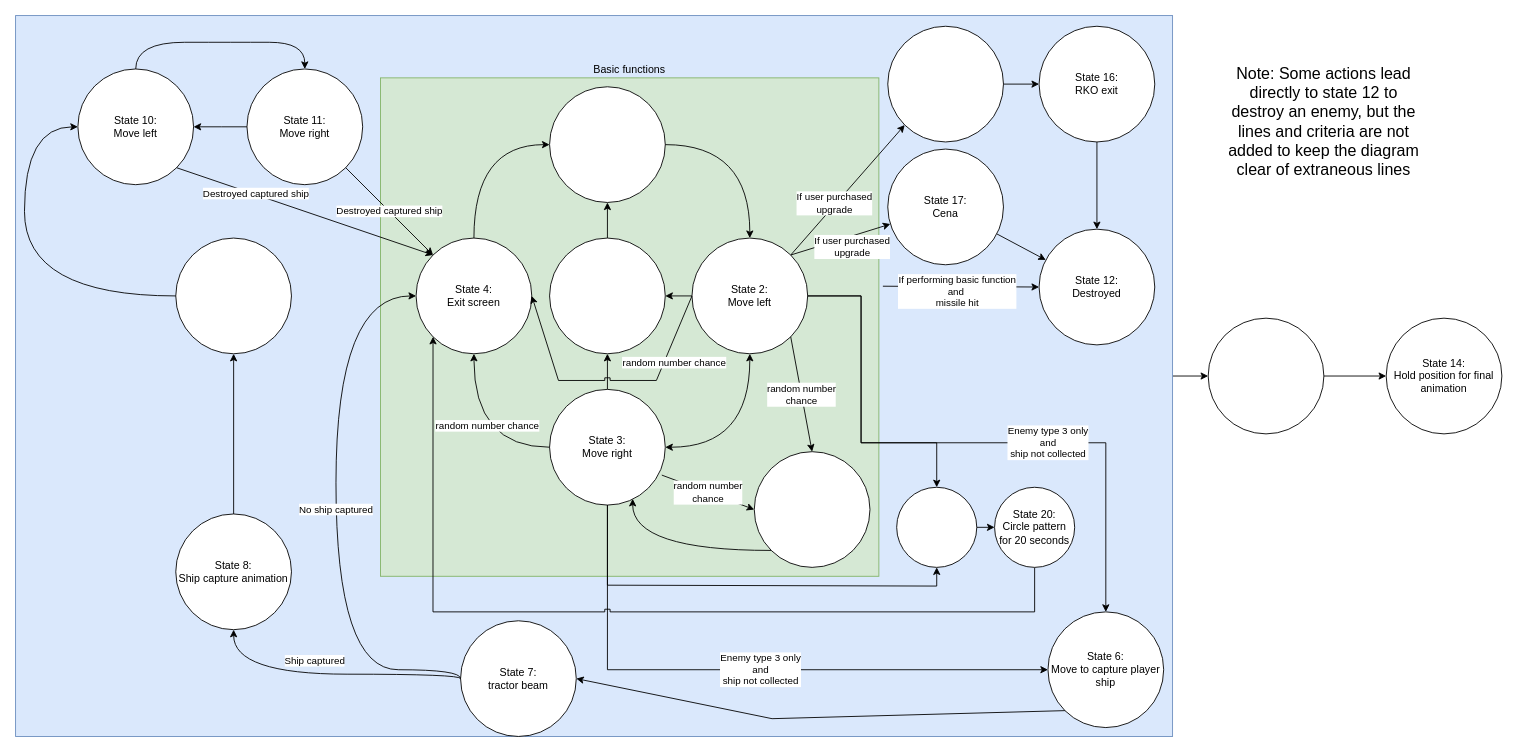
The diagram is 1517 pixels wide and 752 high, and some of its shapes have lost their labels. Here are the shapes that lost their labels. From the top down, the centre of each, then its label:
At [945,83]: "State 15: RKO entrance".
At [607,144]: "State 1: Enter screen".
At [233,295]: "State 9: Return to position".
At [607,295]: "State 18: Pincer".
At [1265,375]: "State 13: Circle formation for end game".
At [811,509]: "State 5: Swoop".
At [936,526]: "State 19: Enter circle pattern".
